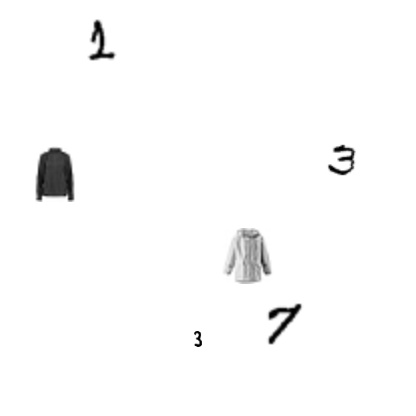1: (70, 14, 126, 70)
3: (321, 139, 363, 181), (187, 328, 209, 350)
7: (253, 290, 309, 346)
Coat: (219, 228, 275, 284)
Shirt: (26, 146, 82, 202)
